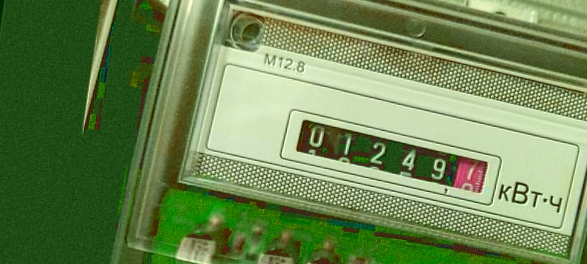0: (306, 122, 327, 150)
1: (338, 129, 355, 157)
2: (366, 140, 387, 168)
4: (399, 145, 419, 173)
7: (462, 156, 481, 184)
9: (427, 155, 448, 183)
screen: (275, 106, 507, 211)
